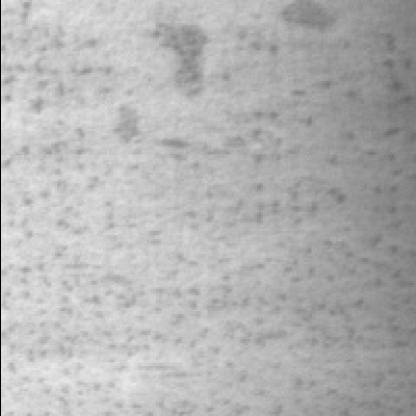pitted_surface: (9, 40, 416, 416), (4, 4, 341, 133)
